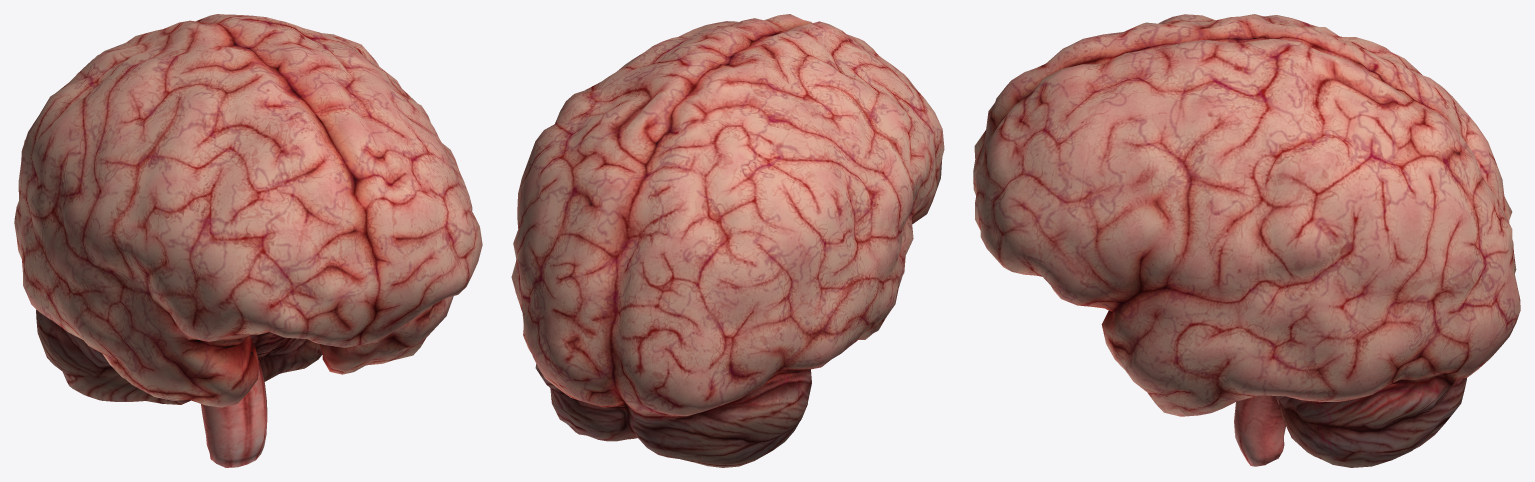
Rendered from brain.gltf.
3 renders of one model, left to right at view 1: azimuth 30°, elevation 25°; view 2: azimuth 150°, elevation 25°; view 3: azimuth 270°, elevation 25°, orthographic. The views are drawn at different scales.
Parts seen in each view (by area): view 1: node_id30; view 2: node_id30; view 3: node_id30.
Part boxes in pixels (x1,y1,x2,y2): node_id30: (14, 14, 482, 467); node_id30: (511, 14, 944, 467); node_id30: (973, 14, 1520, 467).
Bounding box in the file's own units: 0.4558 × 0.512 × 0.5937.
1 material, 1 textured.
